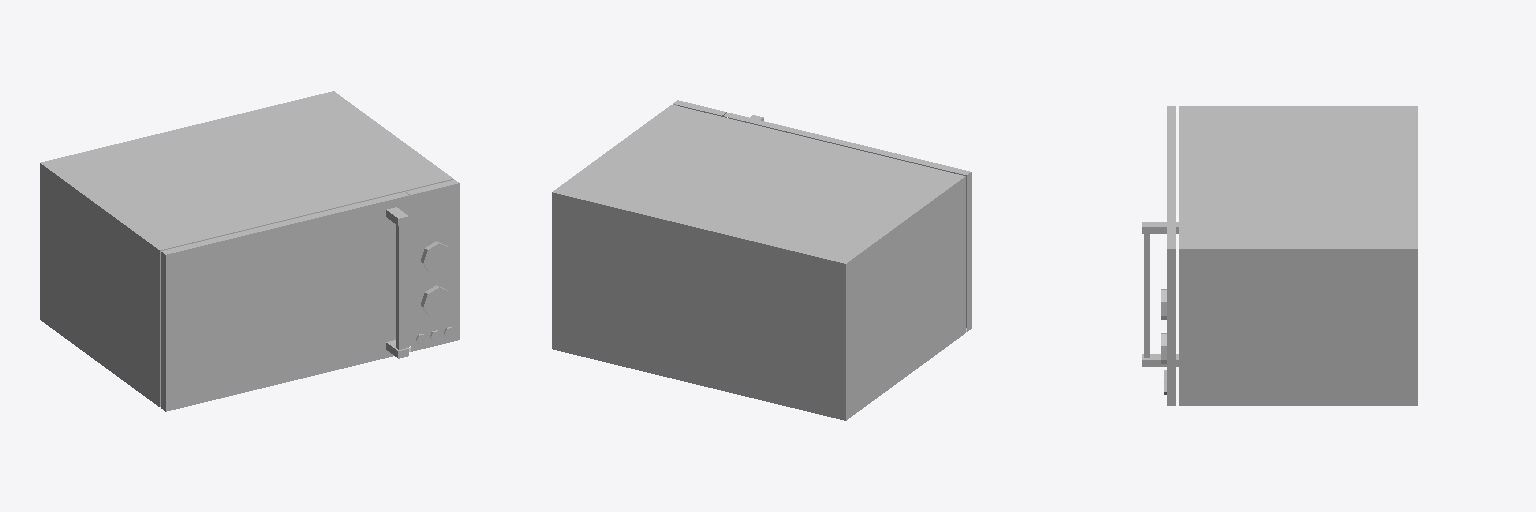
The model's file is microwave_oven_001.obj.
3 renders of one model, left to right at view 1: azimuth 30°, elevation 25°; view 2: azimuth 150°, elevation 25°; view 3: azimuth 270°, elevation 25°, orthographic.
Parts seen in each view (by area): view 1: microwave_oven_001; view 2: microwave_oven_001; view 3: microwave_oven_001.
Part boxes in pixels (left/top/right/bottom): microwave_oven_001: left=40, top=91, right=459, bottom=411; microwave_oven_001: left=552, top=100, right=971, bottom=420; microwave_oven_001: left=1142, top=106, right=1417, bottom=405.
Size of the model in its own units: 0.5149 by 0.2627 by 0.4197.